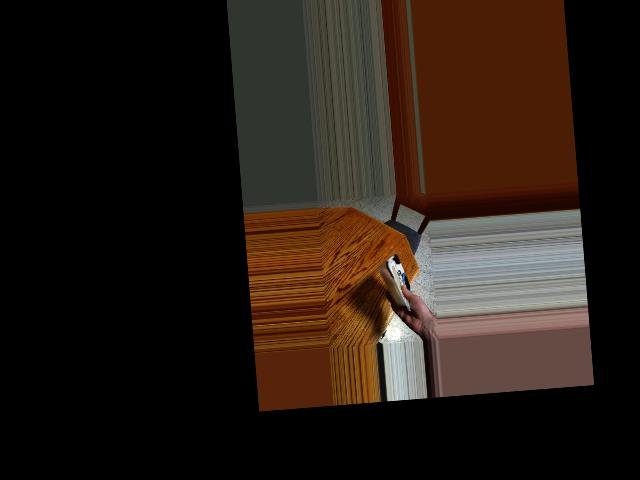cheese: (375, 254, 421, 308)
